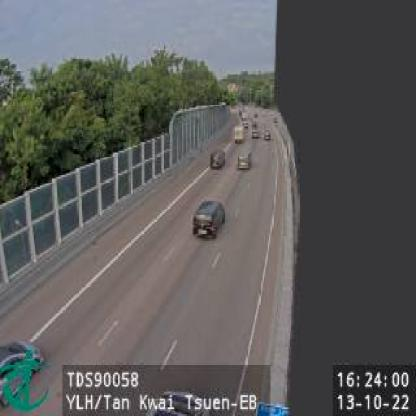Car: (0, 339, 46, 403), (191, 198, 225, 238), (209, 149, 225, 170), (239, 154, 252, 170), (252, 129, 262, 141), (264, 130, 272, 141)
Truck: (234, 125, 245, 144)
